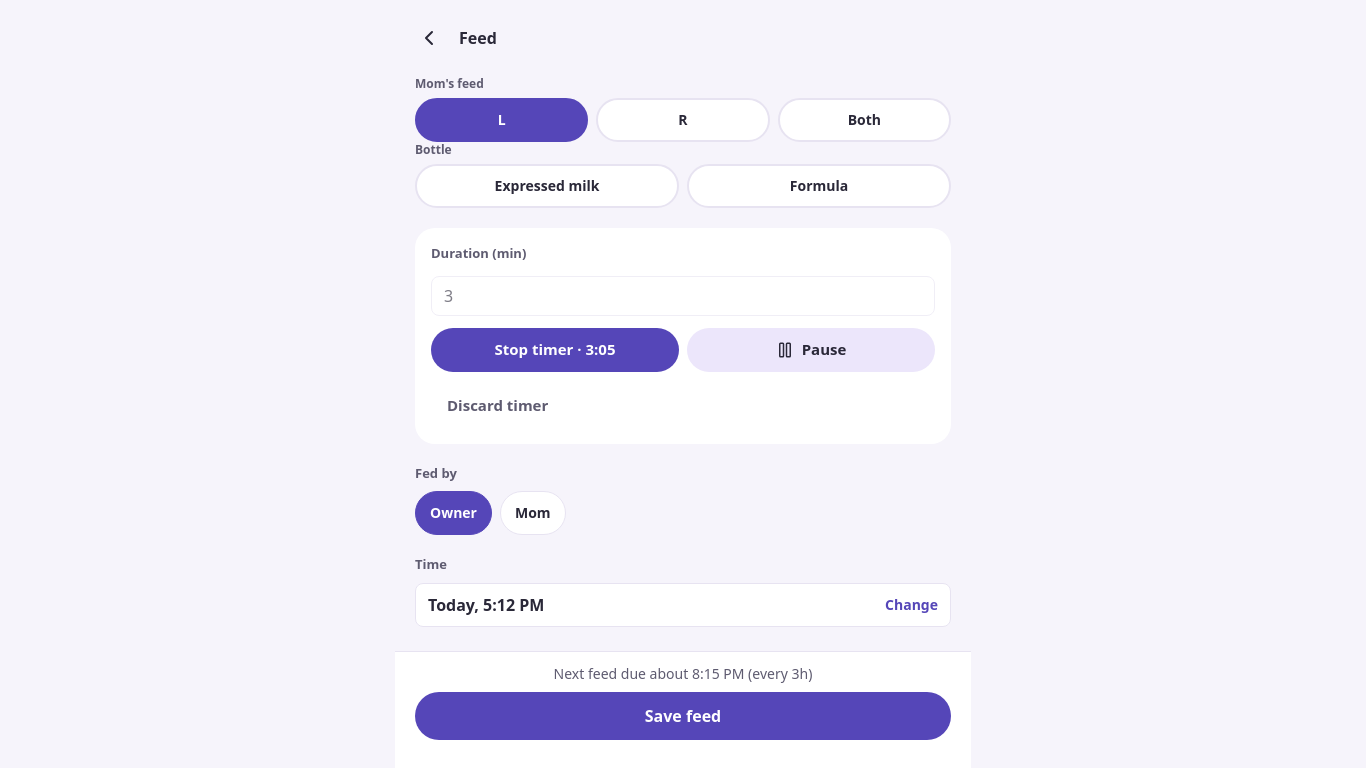
Test: Discard timer throws it away on the server
Click the button "Discard timer".
click(498, 406)  # box [431,384,564,428]
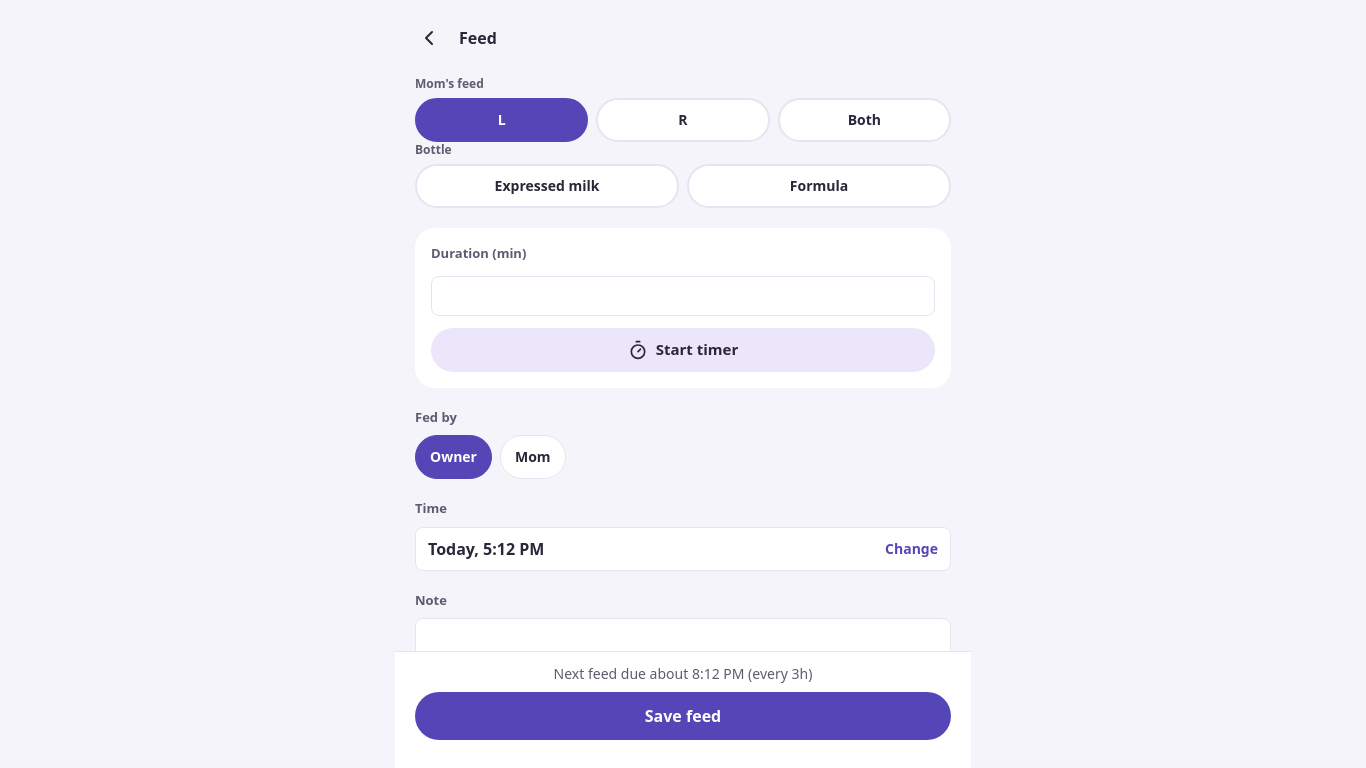
Result: the button "Start timer" is shown at [431,328,935,372]
